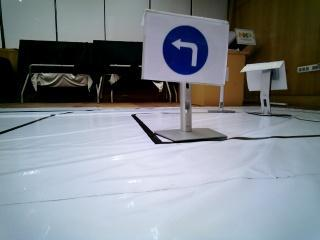left: (149, 16, 222, 83)
